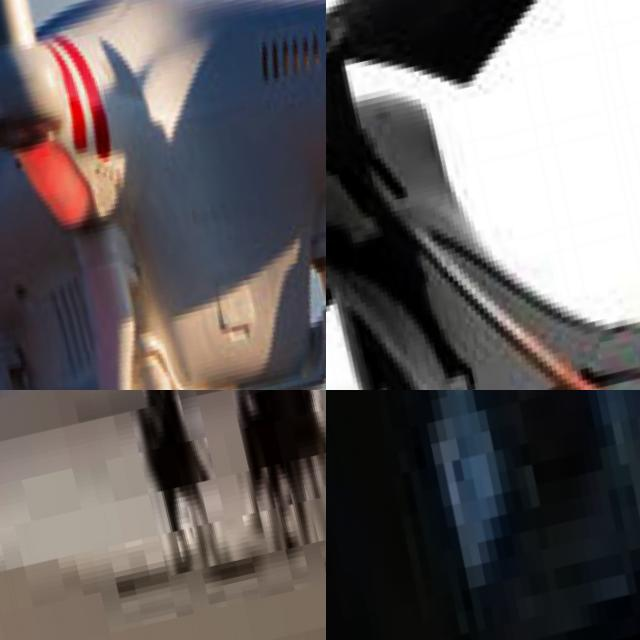drone: (0, 0, 326, 390), (326, 0, 640, 390), (326, 390, 640, 640)
